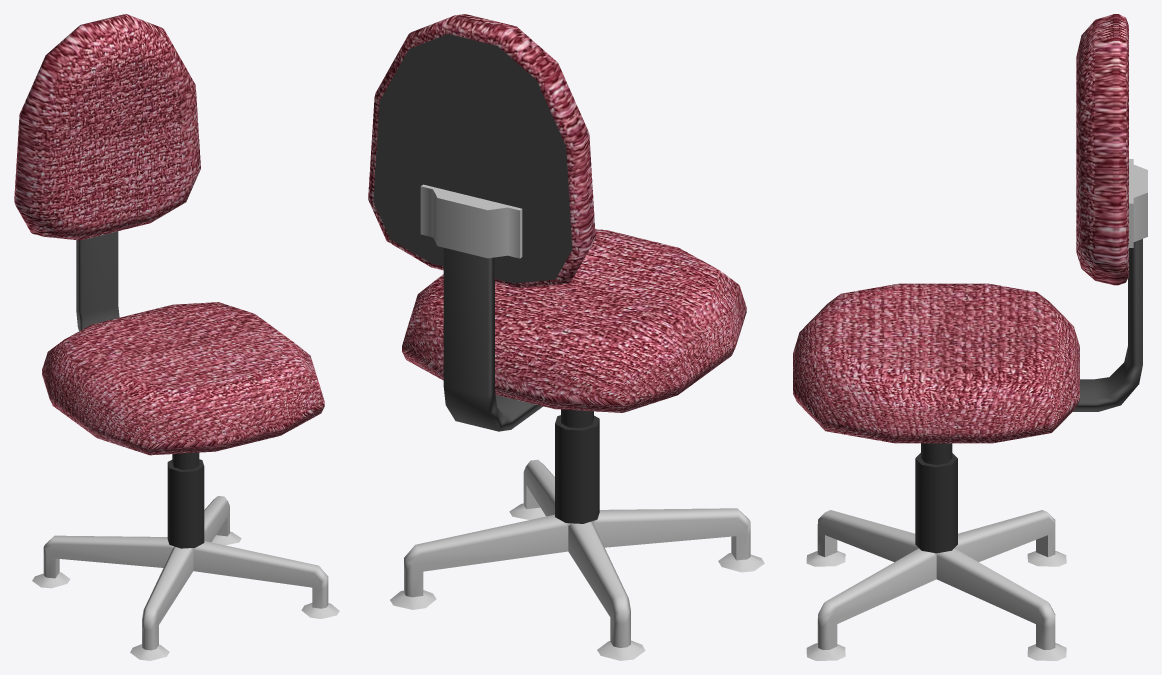
File: swivelChr.fbx
3 views of the same model, side by side, from view 1: azimuth 30°, elevation 25°; view 2: azimuth 150°, elevation 25°; view 3: azimuth 270°, elevation 25° (orthographic). The views are drawn at different scales.
Parts seen in each view (by area): view 1: seatCushion1, seatCushion, Legs, BackRestSpt; view 2: seatCushion1, seatCushion, Legs, BackRestSpt, SptClamp1; view 3: seatCushion, Legs, seatCushion1, BackRestSpt, SptClamp1.
Part boxes in pixels (x1,y1,x2,y2): seatCushion1: (14,14,200,240); seatCushion: (42,302,324,455); Legs: (32,452,339,660); BackRestSpt: (76,231,119,331); seatCushion1: (368,14,595,288); seatCushion: (402,229,746,412); Legs: (390,409,764,660); BackRestSpt: (443,248,542,431); SptClamp1: (420,184,522,258); seatCushion: (793,283,1079,443); Legs: (806,443,1066,660); seatCushion1: (1076,14,1128,285); BackRestSpt: (1073,239,1142,411); SptClamp1: (1129,159,1147,247).
Bounding box in the file's own units: 1.74 × 3.88 × 2.15.
